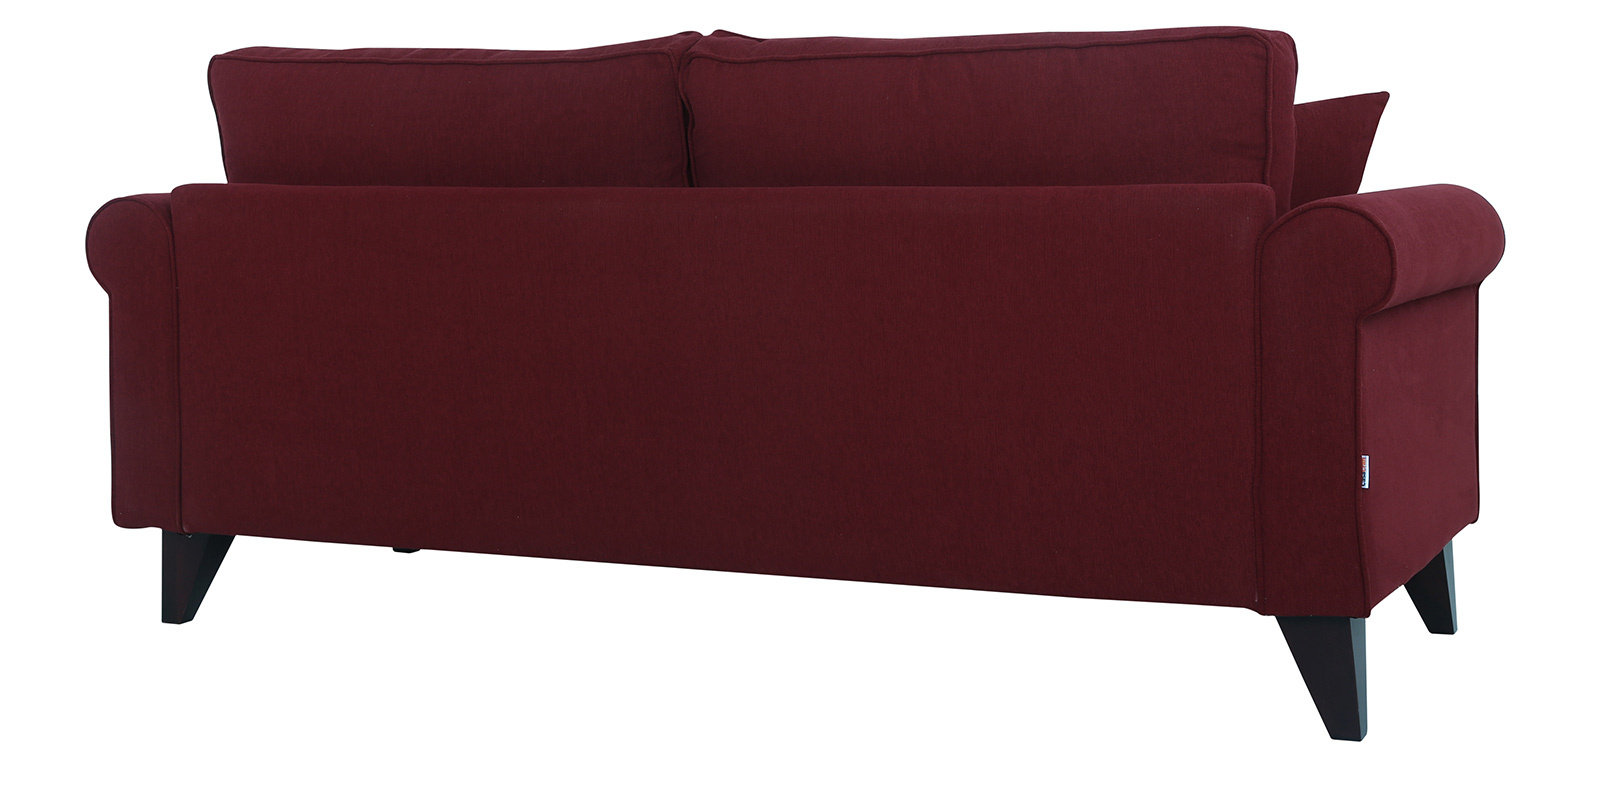Fuego Three Seater Sofa in Garnet Red Colour by CasaCraft: (78, 22, 1508, 763)
